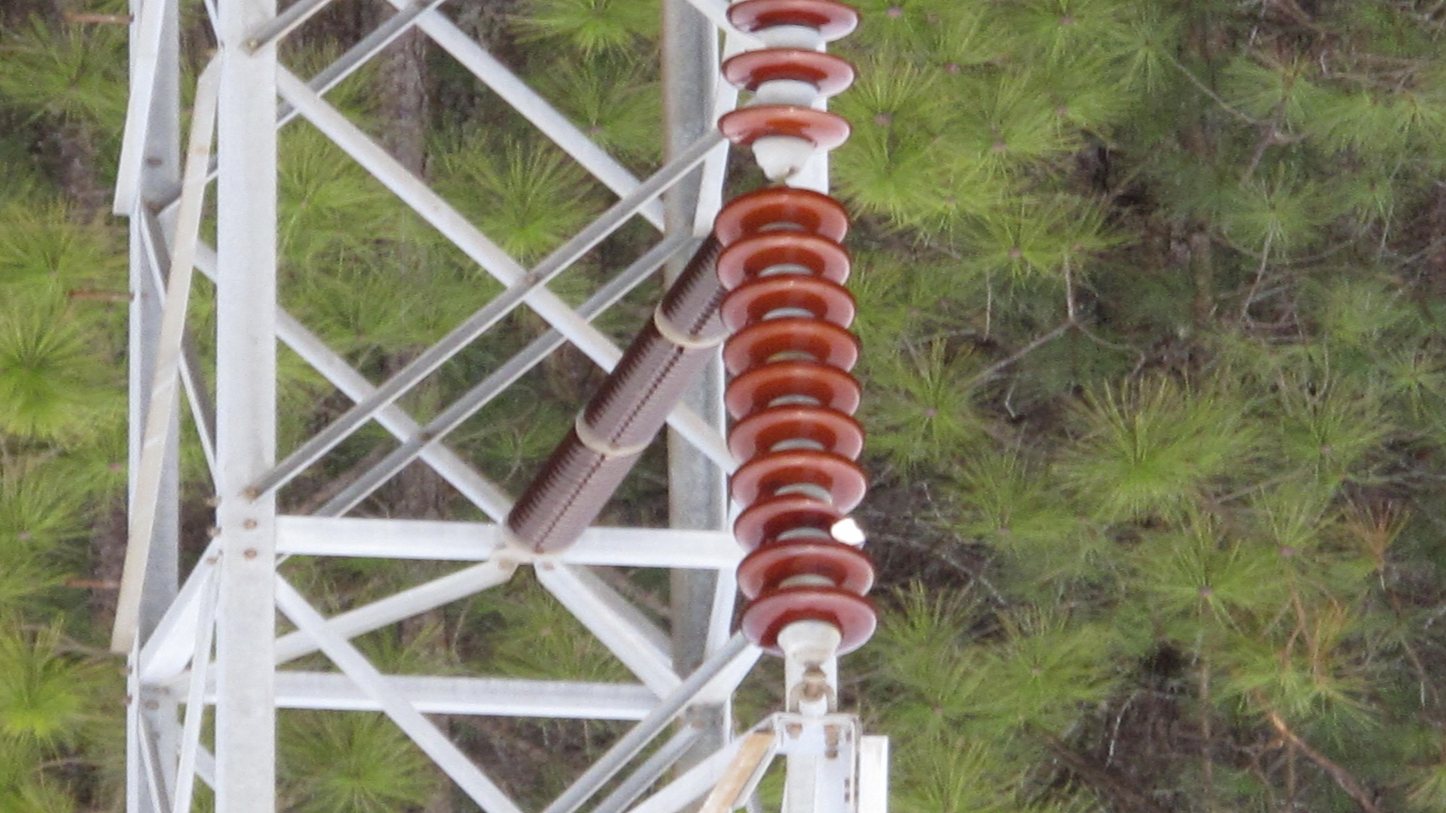insulator: (710, 184, 885, 661), (502, 230, 731, 561), (712, 1, 868, 152)
insulator_breakage: (828, 513, 869, 549)
